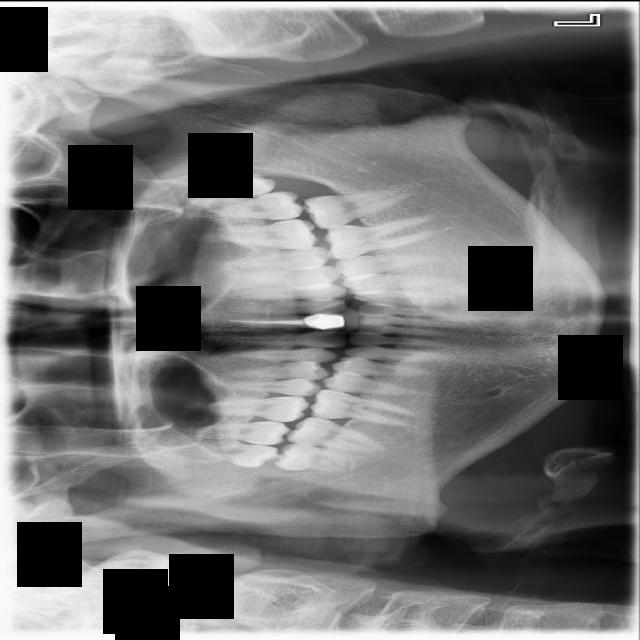3M ESPE Implant: (188, 440, 280, 468)
52: (302, 313, 347, 330)
73: (220, 314, 312, 329), (577, 26, 587, 32)
BioHorizons Implant: (199, 190, 303, 221)
BioLife Implant: (195, 165, 276, 204)
Blue Sky Bio Implant: (300, 184, 411, 231)
Caries: (181, 418, 292, 450)
Implant: (285, 411, 385, 455)
Keystone Dental Implant: (275, 441, 351, 473)
